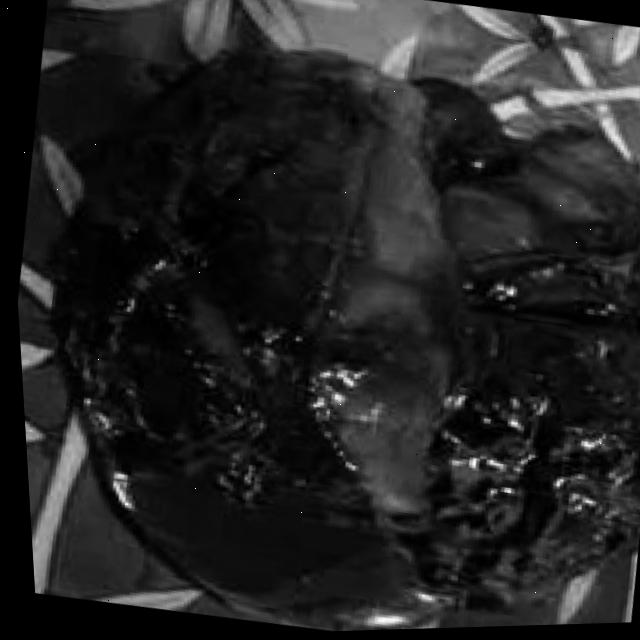熟制海鲜: (3, 34, 640, 640)
